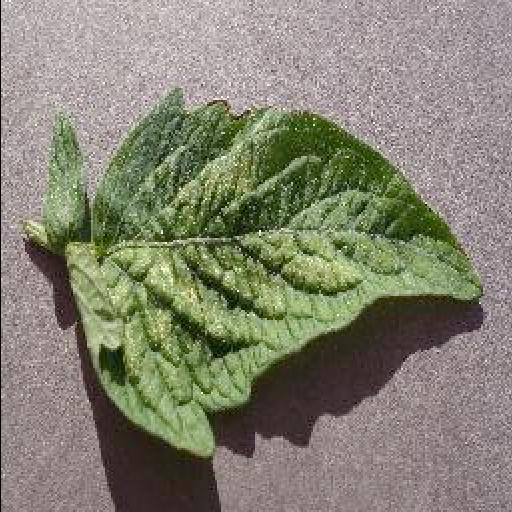disease_tomato: (67, 87, 481, 457)
